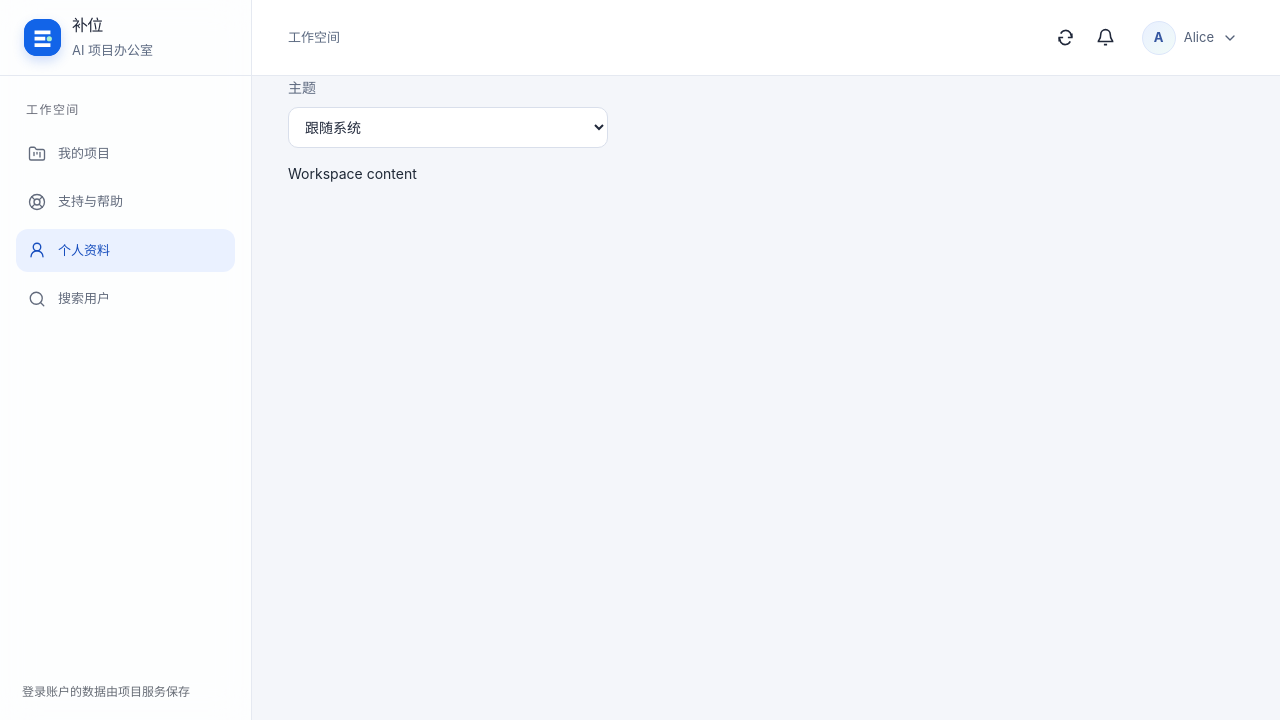
Scenario: places the app brand above left navigation and profile in an independent route
The width and height of the screenshot is (1280, 720).
Expected: the button "退出登录" is not shown
Click the button with aria-label "个人资料菜单".
click(1190, 38)  # box 1136,16 -> 1244,60
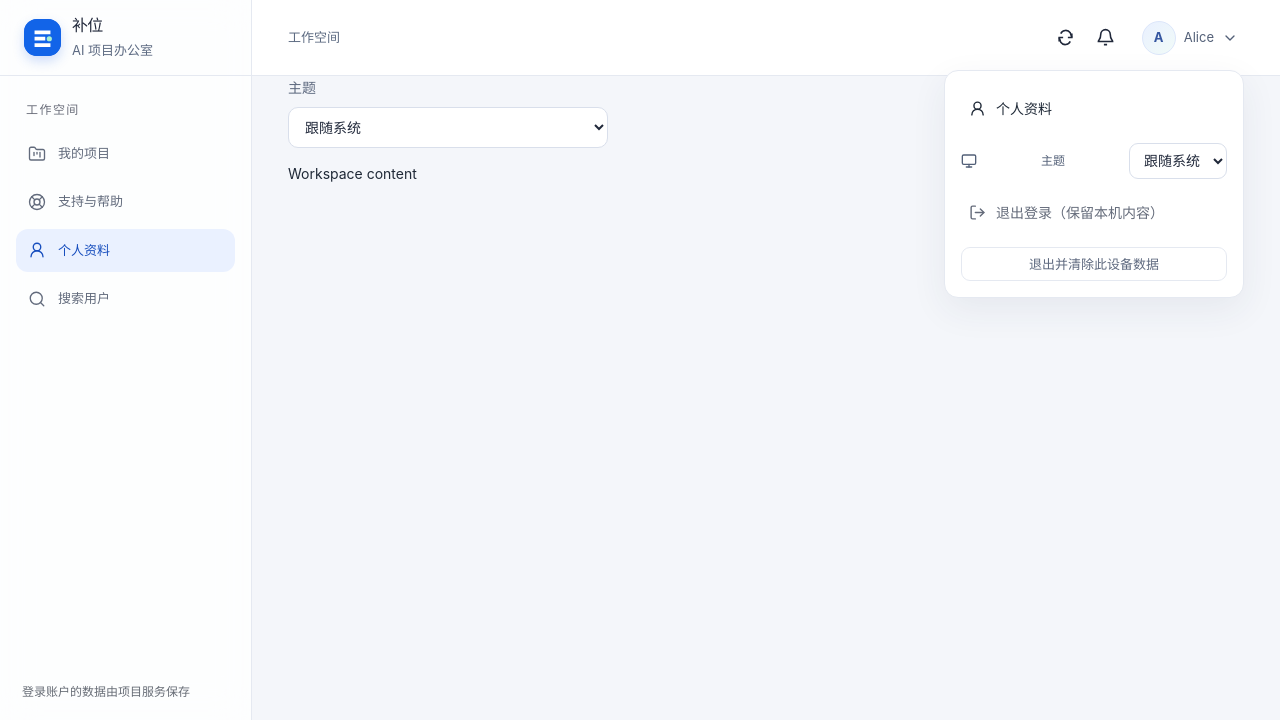
Now the button "退出登录（保留本机内容）" is shown, box 961,190 -> 1227,234
